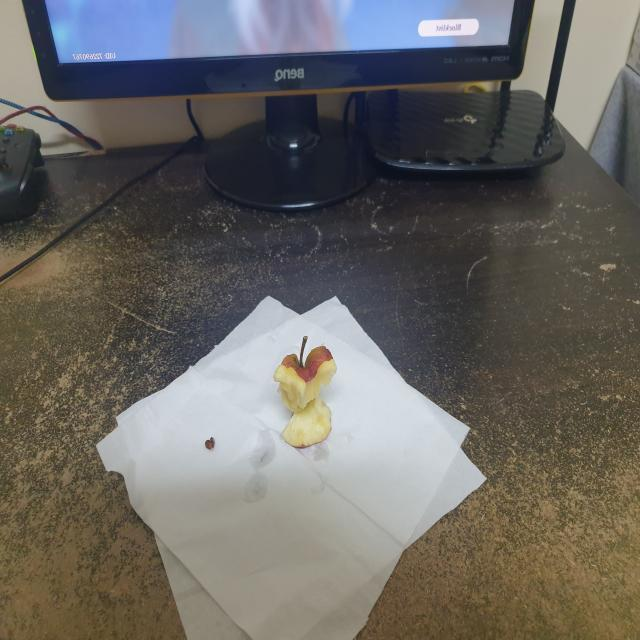apple: (272, 327, 336, 451)
